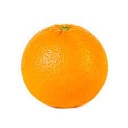orange: (21, 24, 111, 110)
